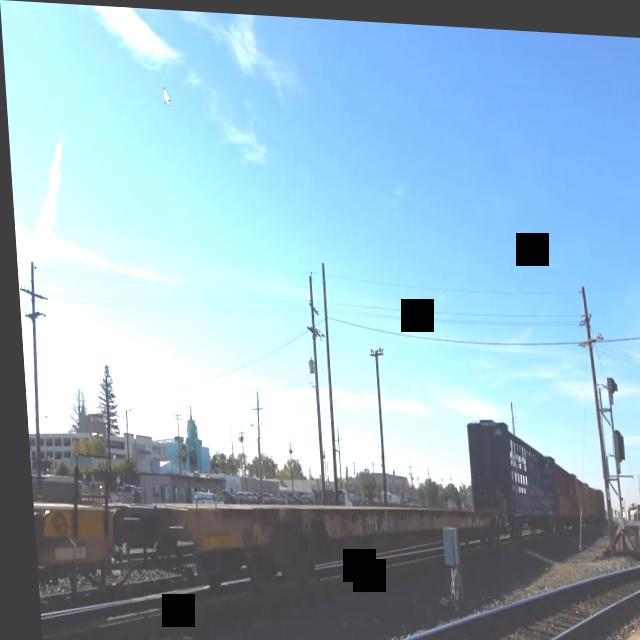flatcar: (122, 483, 489, 611), (25, 465, 131, 618)
